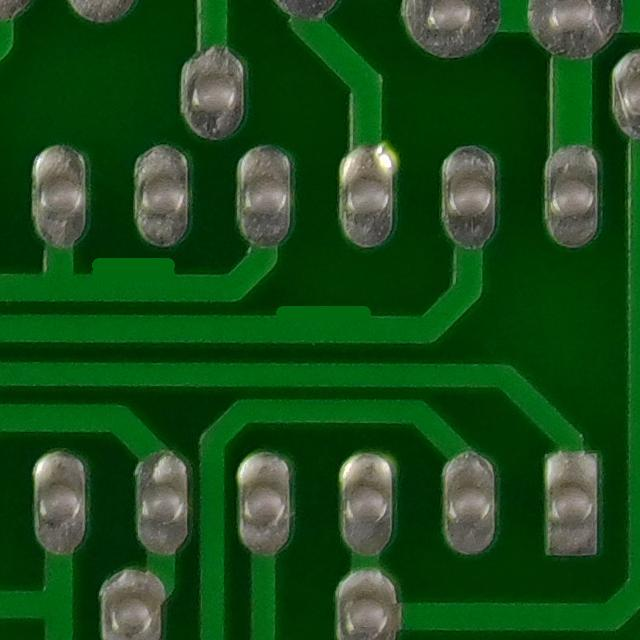spur: (263, 289, 377, 351)
